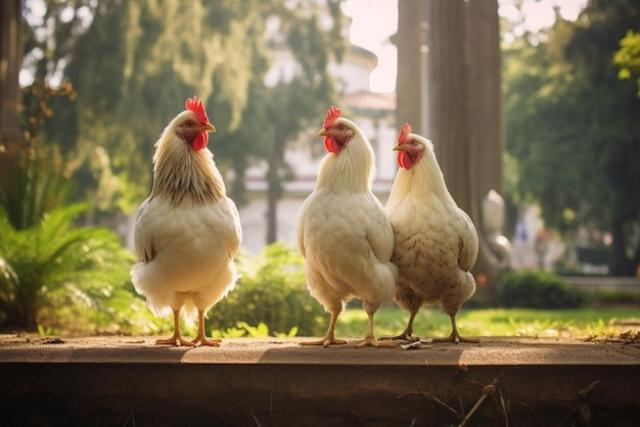Chicken: (131, 97, 244, 348), (296, 105, 394, 349), (382, 125, 481, 344)
